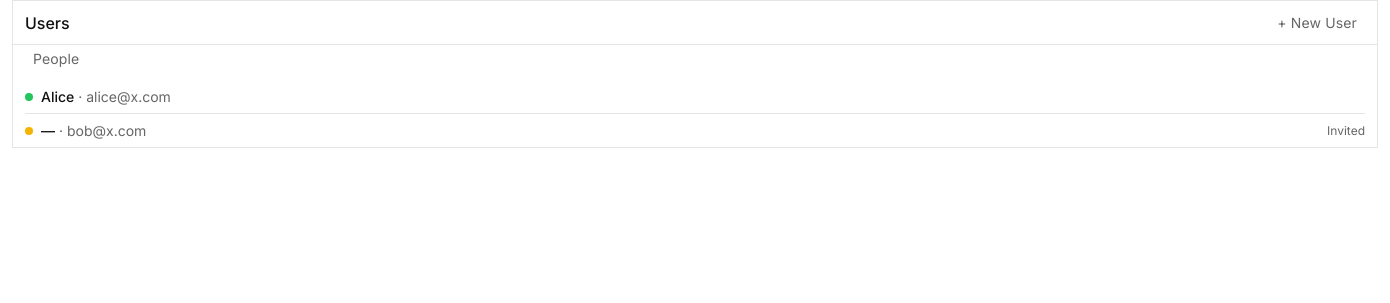
Test: UserManagementPanel › "+ New User" opens the create form; Cancel returns to the list
Expected: the text "Alice" is shown, [41,88,74,105]
Click the button "+ New User". click: (1317, 22)
box: [1269,9,1365,36]
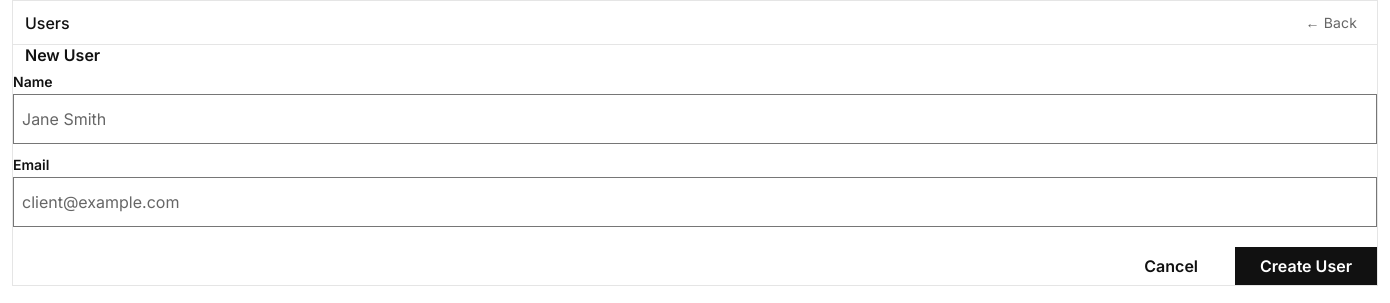
Expected: the button "Create User" is shown, [1235,247,1377,285]
Click the button "Cancel". click: (1171, 266)
box: [1119,247,1223,285]
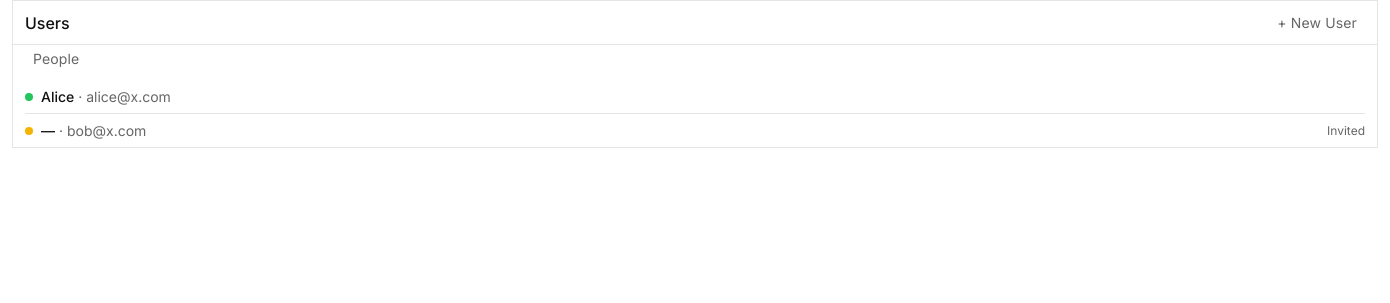
Expected: the text "Alice" is shown, [41,88,74,105]
